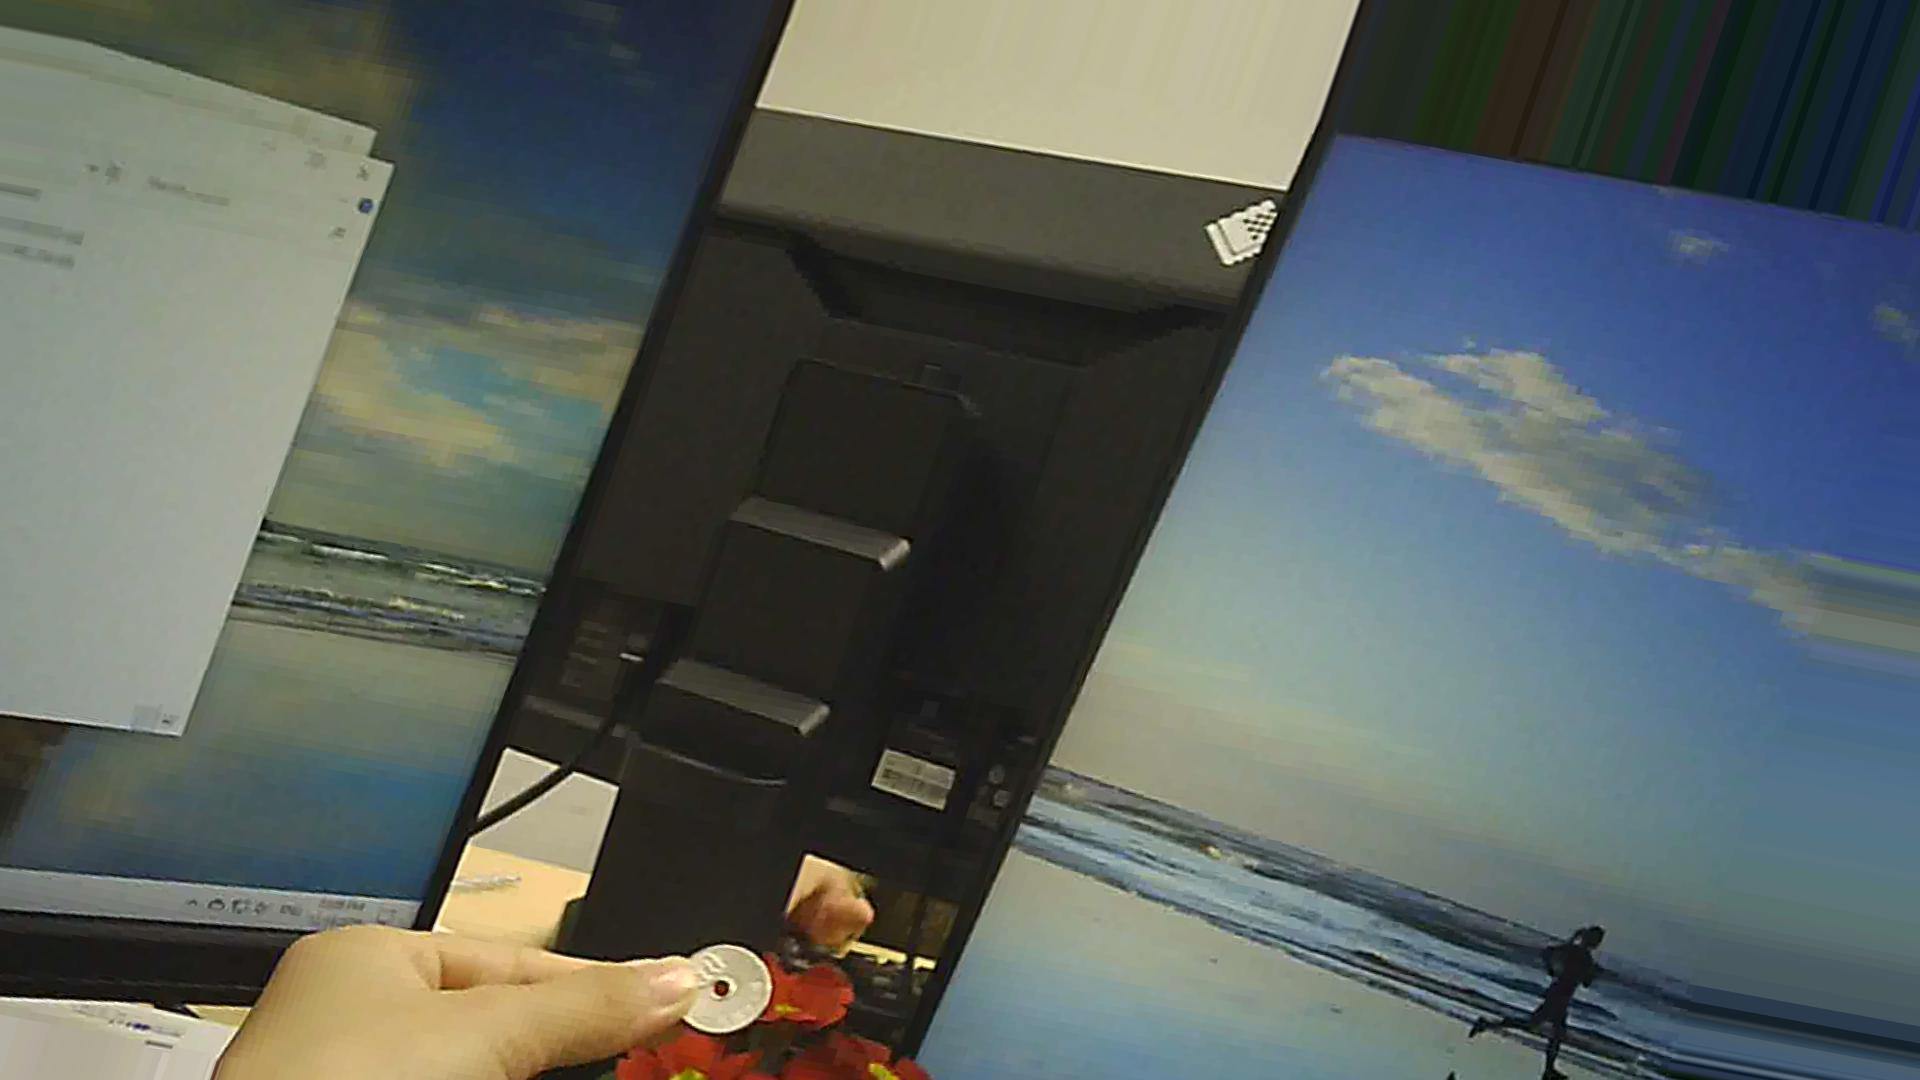50 Yen: (650, 940, 775, 1030)
